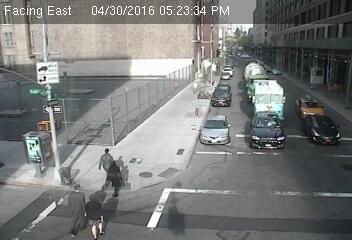neg: (243, 107, 281, 159), (115, 106, 141, 141), (30, 62, 55, 95), (124, 49, 144, 76), (200, 27, 219, 52), (44, 7, 63, 32), (279, 61, 297, 85), (189, 73, 198, 84)
